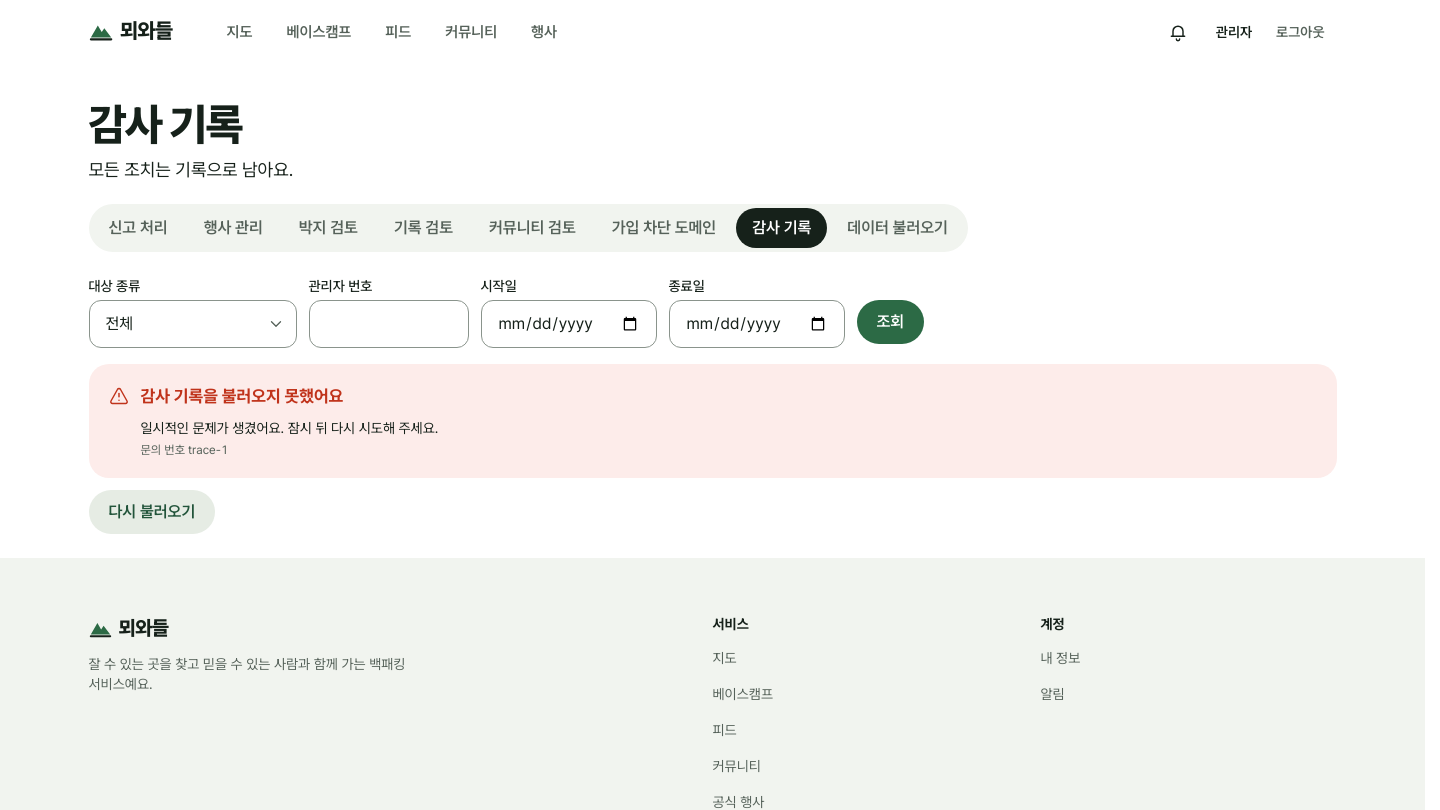
Test: 관리자 감사 기록 화면 › 불러오지 못하면 오류를 보이고 다시 불러오기로 이어서 불러온다
The width and height of the screenshot is (1440, 810).
Expected: the message "감사 기록을 불러오지 못했어요 일시적인 문제가 생겼어요. 잠시 뒤 다시 시도해 주세요. 문의 번호 trace-1 다시 불러오기" is shown, [88,364,1336,534]
Click the button "다시 불러오기".
click(152, 512)  # box [88,490,215,534]
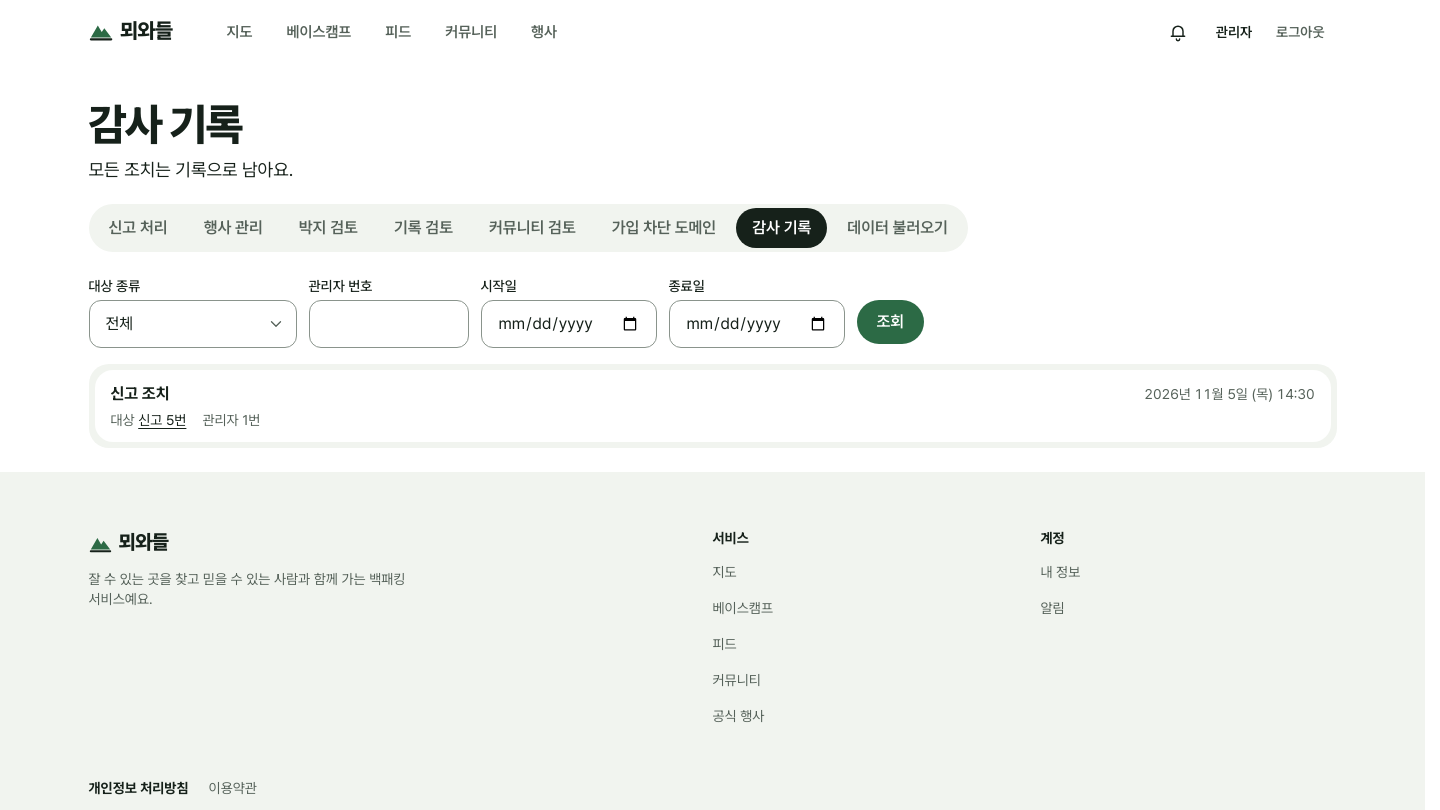
Expected: the message "감사 기록을 불러오지 못했어요 일시적인 문제가 생겼어요. 잠시 뒤 다시 시도해 주세요. 문의 번호 trace-1 다시 불러오기" is gone
Expected: the text "신고 조치" is shown, [110,382,170,406]
